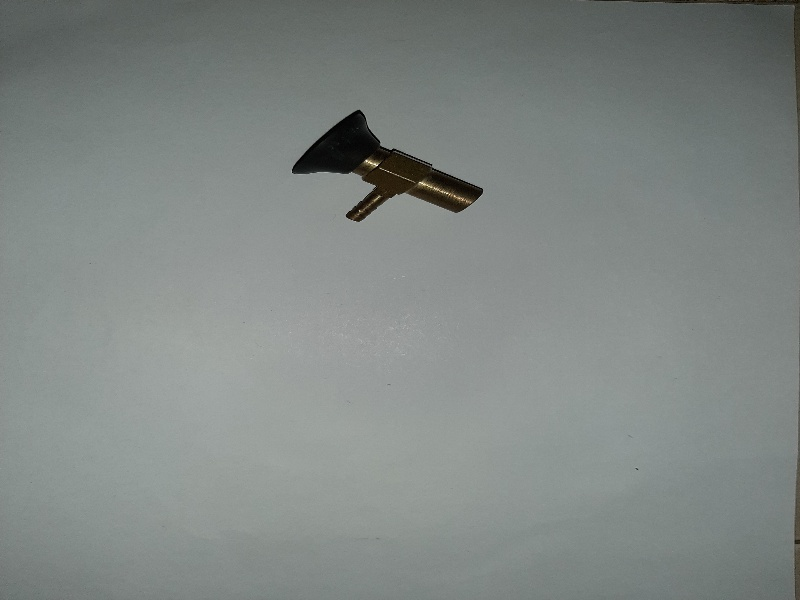Joint Hold: (290, 108, 487, 228)
